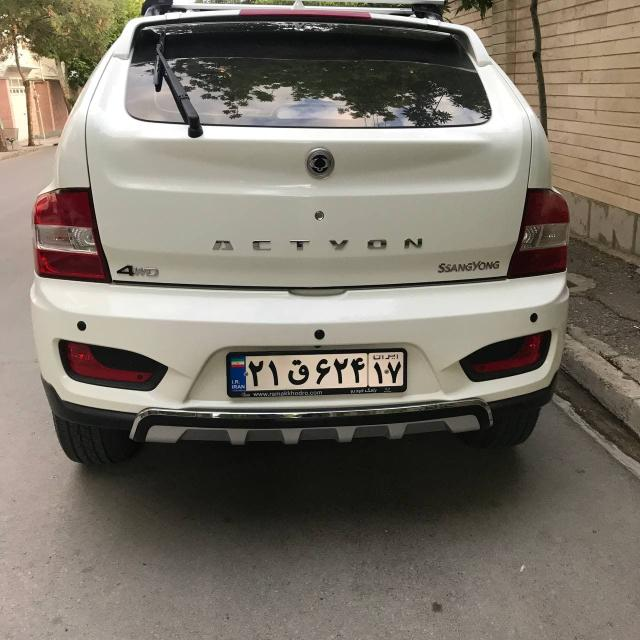Plates: (228, 350, 405, 391)
